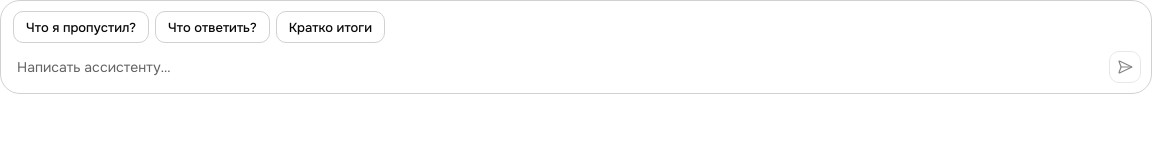
Test case: навык — в списке с пометкой «навык»; у команды с аргументами — призрак argumentHint
This screenshot has width=1152, height=160.
Type "/sum" into the dropdown named "Сообщение ассистенту". click: x=558, y=67
box: left=13, top=51, right=1103, bottom=83
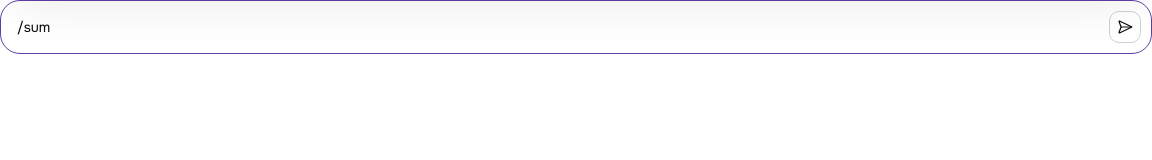
Press Tab
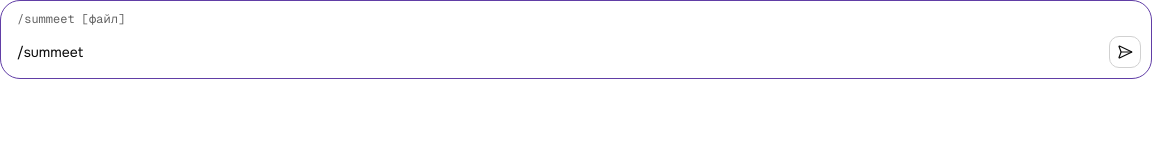
Expected: the text with class "chat-slash__ghost" reads "/summeet [файл]", left=17, top=11, right=125, bottom=27
Expected: the dropdown named "Сообщение ассистенту" holds "/summeet ", left=13, top=36, right=1103, bottom=68
